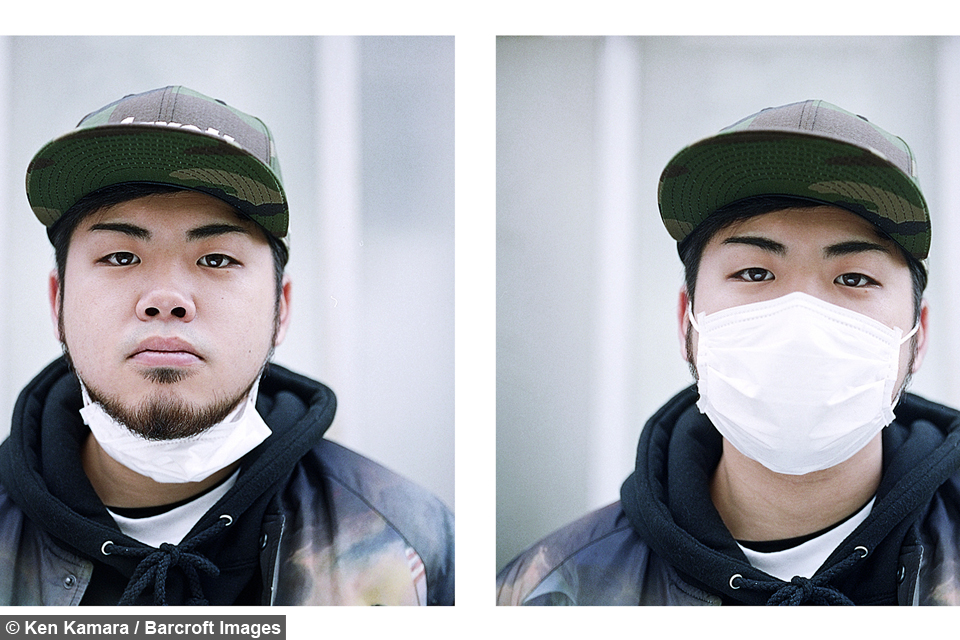mask: (679, 297, 916, 490)
